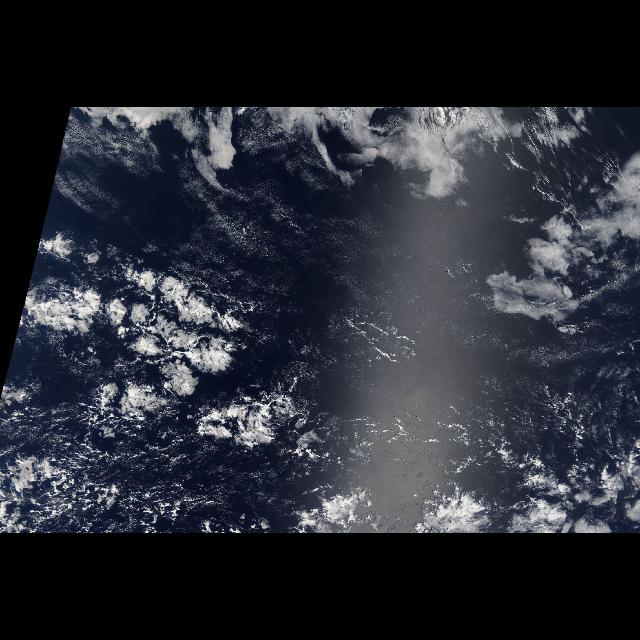Gravel: (1, 380, 223, 530)
Sugar: (320, 333, 638, 515), (207, 194, 478, 308)
